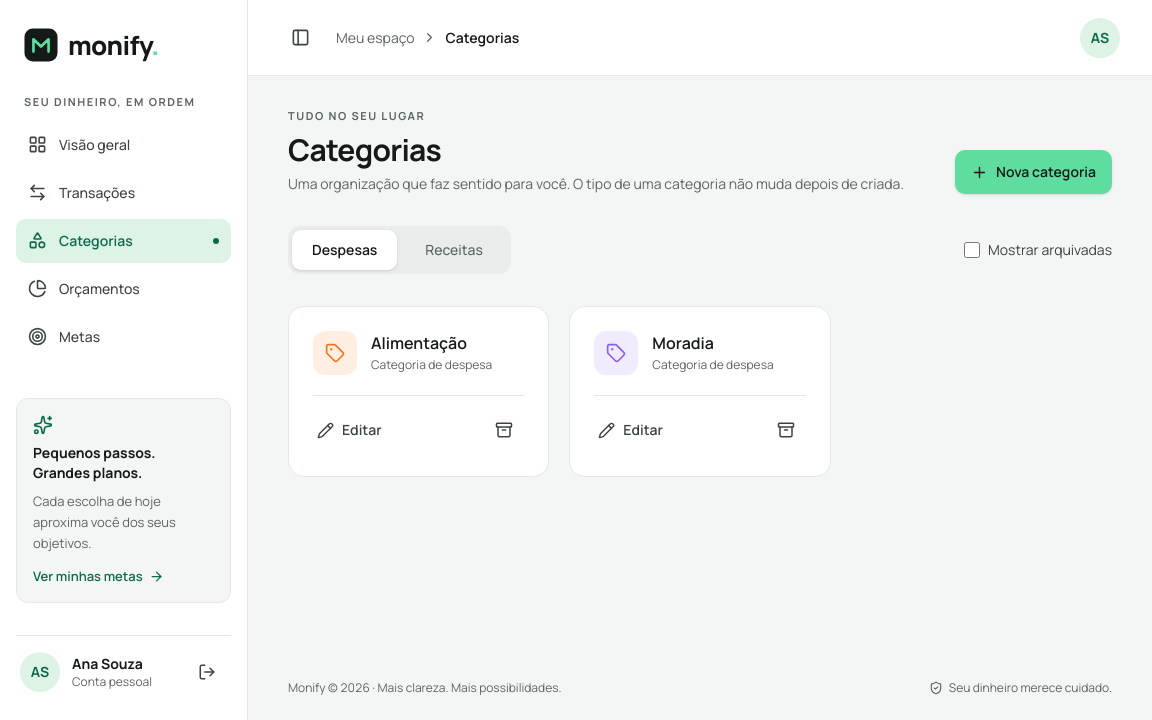
Test case: Categorias › deve listar as despesas ativas e mostrar as arquivadas quando pedido
Expected: the list named "Categorias" is shown, [288,306,831,477]
Expected: the heading "Alimentação" is shown, [371,332,467,354]
Click the checkbox labelled "Mostrar arquivadas": (972, 250) [964,242,980,258]
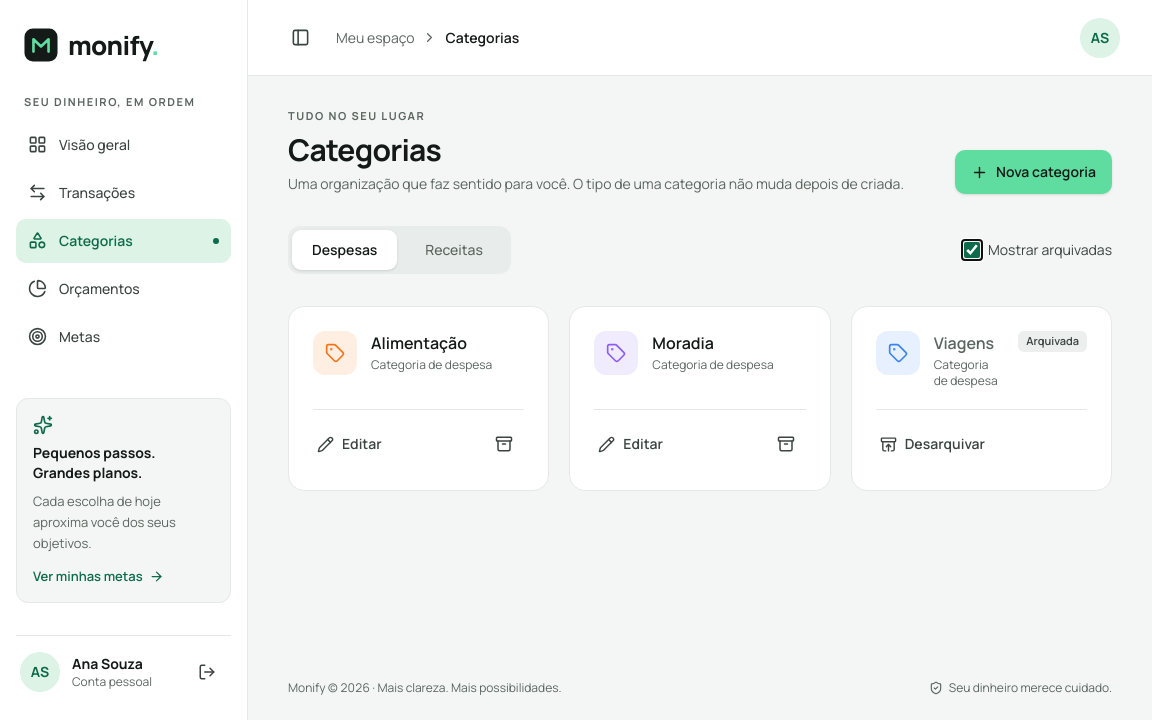
Now the heading "Viagens" is shown, box [934,331,1004,355]
Now the text "Arquivada" is shown, box [1018,331,1087,352]
Click the tab "Receitas": (454, 250) [401,230,507,270]
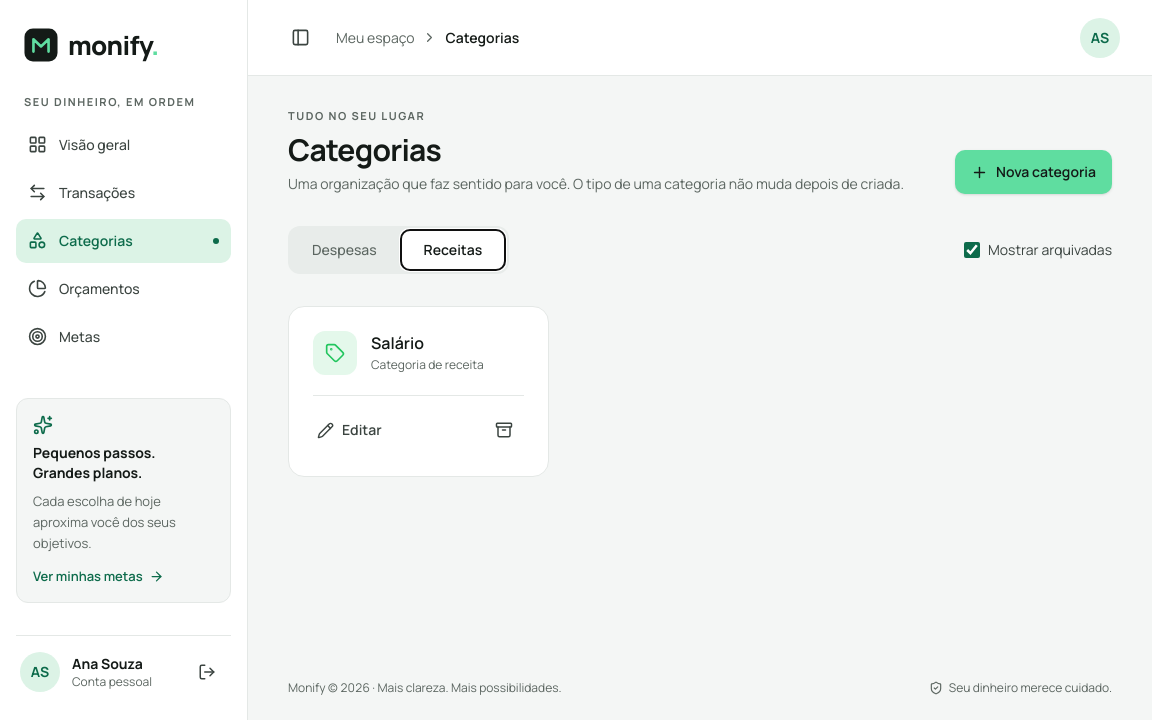
Now the heading "Salário" is shown, box [371,332,424,354]
